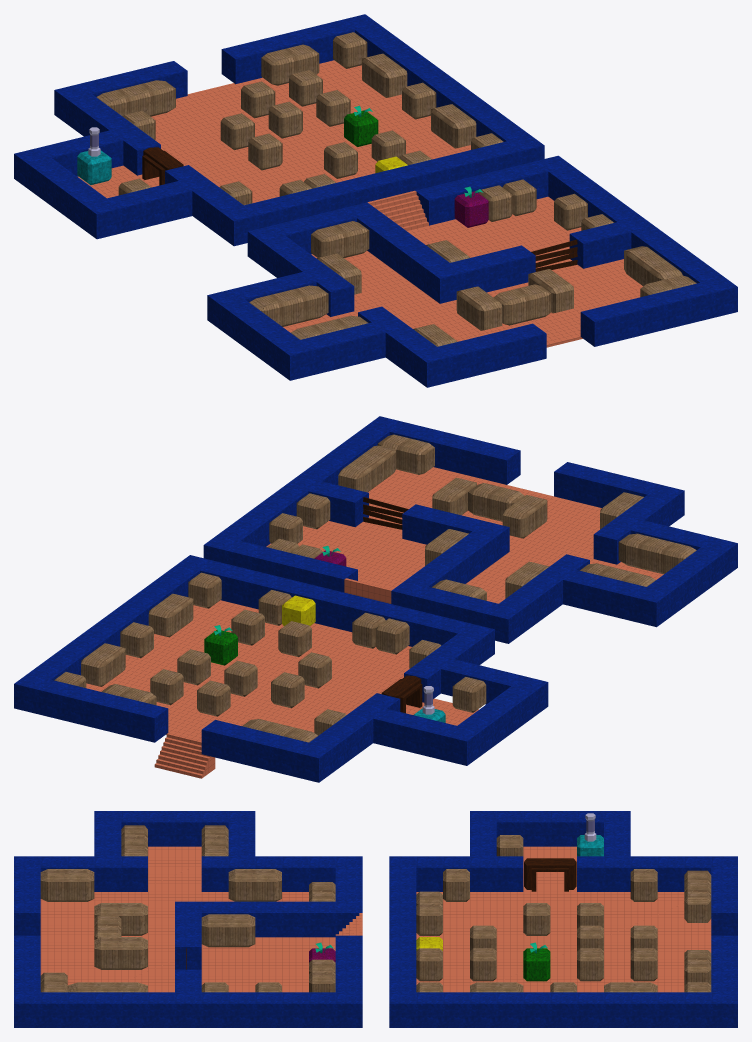
Rendered from Office1-02.dae.
The picture shows the model from 3 angles, top to bottom: view 1: azimuth 30°, elevation 25°; view 2: azimuth 150°, elevation 25°; view 3: azimuth 270°, elevation 25°; orthographic projection. The views are drawn at different scales.
Visible parts, largest first — view 1: block (×22), block_bevel (×29), porch_floorCenter (×3), stairs_small_x0025_, doorway_wide, barricade_large; view 2: block (×22), block_bevel (×33), porch_floorCenter (×3), stairs_small_x0025_ (×2), doorway_wide, barricade_large; view 3: block (×22), porch_floorCenter (×4), block_bevel (×31), doorway_wide.
Part boxes in pixels (left/top/right/bottom): block (×22): left=14, top=14, right=737, bottom=387; block_bevel (×29): left=77, top=32, right=696, bottom=339; porch_floorCenter (×3): left=77, top=60, right=642, bottom=347; stairs_small_x0025_: left=367, top=190, right=428, bottom=230; doorway_wide: left=142, top=147, right=183, bottom=185; barricade_large: left=531, top=239, right=577, bottom=271; block (×22): left=14, top=416, right=737, bottom=782; block_bevel (×33): left=81, top=434, right=696, bottom=742; porch_floorCenter (×3): left=86, top=467, right=601, bottom=740; stairs_small_x0025_ (×2): left=154, top=578, right=392, bottom=778; doorway_wide: left=381, top=675, right=422, bottom=713; barricade_large: left=363, top=497, right=408, bottom=529; block (×22): left=14, top=811, right=737, bottom=1027; porch_floorCenter (×4): left=40, top=846, right=711, bottom=992; block_bevel (×31): left=40, top=825, right=711, bottom=992; doorway_wide: left=524, top=858, right=576, bottom=891.
Size of the model in its own units: 17 by 3 by 27.
